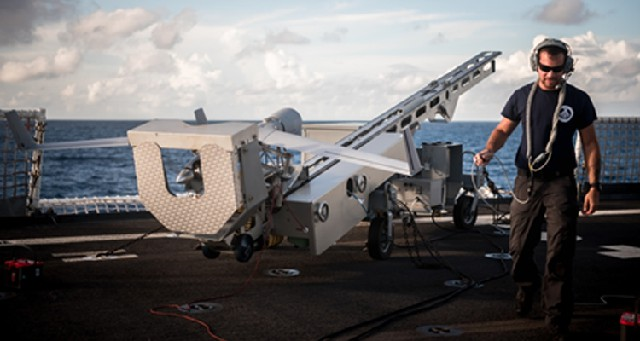maybay_khongnguoilai: (28, 90, 425, 192)
